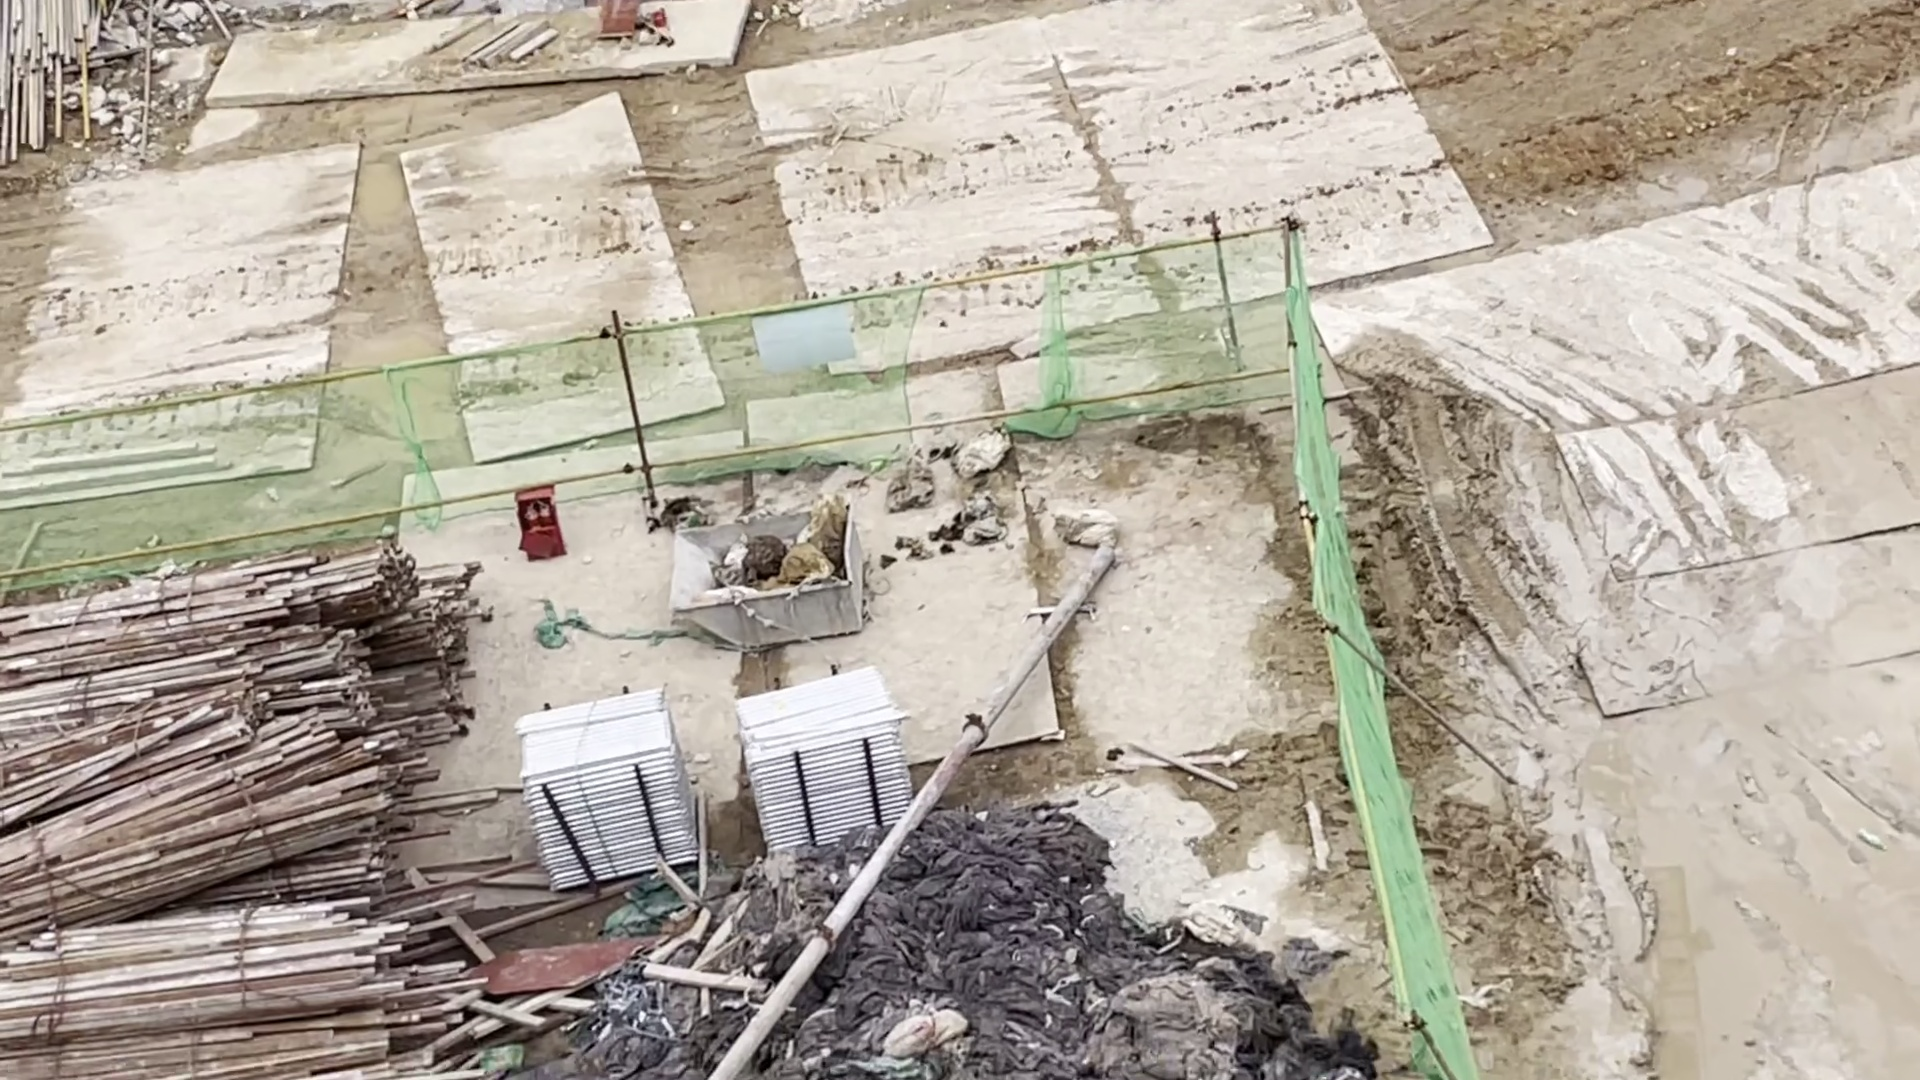scaffold: (727, 671, 924, 847), (512, 705, 709, 880)
wood: (1, 563, 483, 1073)
